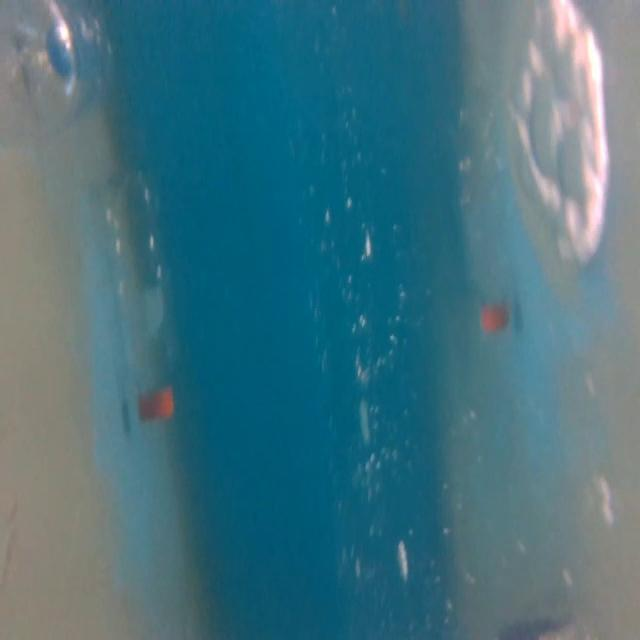plastic bottle: (90, 147, 190, 433)
